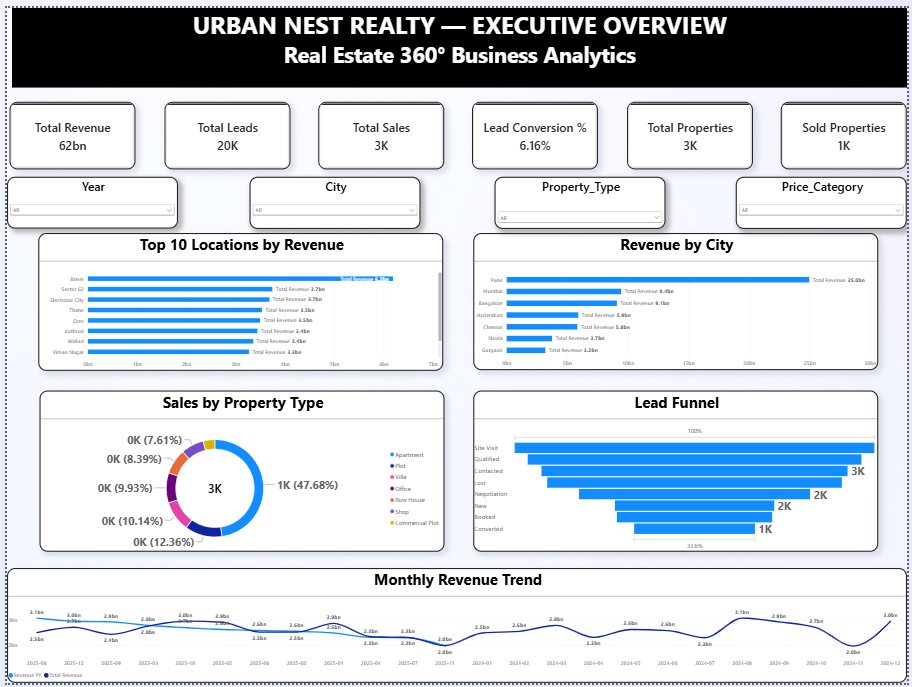

The page's visual inventory and layout, read from the dashboard file:
{"tool":"powerbi","page":{"name":"Executive_Overview","canvas":[2000,1500],"ordinal":0},"visuals":[{"type":"cardVisual","fields":{"Data":["_Sales_Measures.Total Revenue"]},"box":[6.6,207.8,280,150],"z":0},{"type":"cardVisual","fields":{"Data":["_Property_Measures.Sold Properties"]},"box":[1720.1,207.8,280,150],"z":1000},{"type":"cardVisual","fields":{"Data":["_Lead_Measures.Total Leads"]},"box":[349.3,207.8,280,150],"z":2000},{"type":"cardVisual","fields":{"Data":["_Sales_Measures.Total Sales"]},"box":[692,207.8,280,150],"z":3000},{"type":"cardVisual","fields":{"Data":["_Property_Measures.Total Properties"]},"box":[1377.4,207.8,280,150],"z":4000},{"type":"cardVisual","fields":{"Data":["_Lead_Measures.Lead Conversion %"]},"box":[1034.7,207.8,280,150],"z":5000},{"type":"textbox","box":[10,0,1990,176.7],"z":6000},{"type":"slicer","title":"Year","fields":{"Values":["Dim_Date.Year"]},"box":[0,374.5,380,115.5],"z":7000},{"type":"slicer","title":"City","fields":{"Values":["Dim_Location.City"]},"box":[540,374.4,380,115.6],"z":8000},{"type":"barChart","title":"Top 10 Locations by Revenue","fields":{"Category":["Dim_Location.Location"],"Y":["_Sales_Measures.Total Revenue"]},"box":[70,500,900,306.7],"z":9000},{"type":"barChart","title":"Revenue by City","fields":{"Category":["Dim_Location.City"],"Y":["_Sales_Measures.Total Revenue"]},"box":[1035,500,900,305],"z":10000},{"type":"donutChart","title":"Sales by Property Type","fields":{"Category":["Dim_Property.Property_Type"],"Y":["_Sales_Measures.Total Sales"]},"box":[73.3,850,900,358.3],"z":11000},{"type":"funnel","title":"Lead Funnel","fields":{"Category":["Fact_Leads.Lead_Status"],"Y":["_Lead_Measures.Total Leads"]},"box":[1036.7,850,900,358.3],"z":12000},{"type":"lineChart","title":"Monthly Revenue Trend","fields":{"Category":["Dim_Date.Year_Month"],"Y":["_Time_Intelligence.Revenue PY","_Sales_Measures.Total Revenue"]},"box":[0,1243.3,2000,255],"z":13000},{"type":"slicer","title":"Property_Type","fields":{"Values":["Dim_Property.Property_Type"]},"box":[1082,374,380,115.6],"z":14000},{"type":"slicer","title":"Price_Category","fields":{"Values":["Dim_Property.Price_Category"]},"box":[1620,374,380,115.6],"z":15000}]}

Visuals, with their boxes in screenshot pixels (x1, y1, x2, y2), scaled from the page's 2000x1500 canvas onto the 912x687 screenshot:
cardVisual - _Sales_Measures.Total Revenue: {"left": 3, "top": 95, "right": 131, "bottom": 164}
cardVisual - _Property_Measures.Sold Properties: {"left": 784, "top": 95, "right": 911, "bottom": 164}
cardVisual - _Lead_Measures.Total Leads: {"left": 159, "top": 95, "right": 287, "bottom": 164}
cardVisual - _Sales_Measures.Total Sales: {"left": 316, "top": 95, "right": 443, "bottom": 164}
cardVisual - _Property_Measures.Total Properties: {"left": 628, "top": 95, "right": 756, "bottom": 164}
cardVisual - _Lead_Measures.Lead Conversion %: {"left": 472, "top": 95, "right": 600, "bottom": 164}
textbox: {"left": 5, "top": 0, "right": 911, "bottom": 81}
"Year" slicer: {"left": 0, "top": 172, "right": 173, "bottom": 224}
"City" slicer: {"left": 246, "top": 171, "right": 420, "bottom": 224}
"Top 10 Locations by Revenue" barChart: {"left": 32, "top": 229, "right": 442, "bottom": 369}
"Revenue by City" barChart: {"left": 472, "top": 229, "right": 882, "bottom": 369}
"Sales by Property Type" donutChart: {"left": 33, "top": 389, "right": 444, "bottom": 553}
"Lead Funnel" funnel: {"left": 473, "top": 389, "right": 883, "bottom": 553}
"Monthly Revenue Trend" lineChart: {"left": 0, "top": 569, "right": 911, "bottom": 686}
"Property_Type" slicer: {"left": 493, "top": 171, "right": 667, "bottom": 224}
"Price_Category" slicer: {"left": 739, "top": 171, "right": 911, "bottom": 224}
